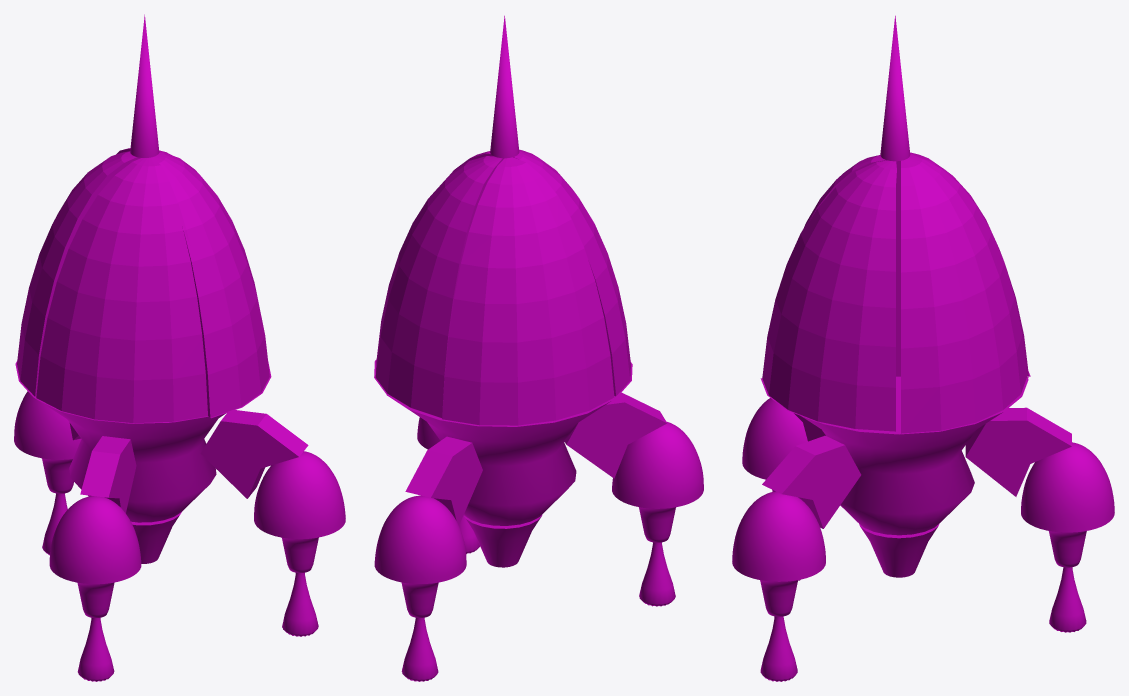
The model's file is Building.fbx.
3 renders of one model, left to right at view 1: azimuth 30°, elevation 25°; view 2: azimuth 150°, elevation 25°; view 3: azimuth 270°, elevation 25°, orthographic. The views are drawn at different scales.
Visible parts, largest first — view 1: pSphere3, pSphere4, Body, Leg, Leg2, pSphere2, Connector2, Leg1, Connector1, pCone2, Bottom; view 2: pSphere2, pSphere5, Body, Leg1, Leg, pSphere3, Connector1, Connector, pCone2, Bottom, Leg2; view 3: pSphere4, pSphere5, Body, Leg2, Leg1, Connector, Connector2, Leg, pCone2, Bottom, pSphere2, pSphere3.
Boxes of the visible parts, bbox=[...] form: pSphere3: bbox=[35, 157, 208, 423]; pSphere4: bbox=[152, 152, 271, 418]; Body: bbox=[20, 383, 226, 522]; Leg: bbox=[49, 496, 141, 681]; Leg2: bbox=[254, 451, 345, 636]; pSphere2: bbox=[15, 151, 140, 396]; Connector2: bbox=[200, 410, 308, 498]; Leg1: bbox=[14, 391, 81, 555]; Connector1: bbox=[80, 436, 136, 513]; pCone2: bbox=[130, 14, 159, 157]; Bottom: bbox=[131, 512, 181, 563]; pSphere2: bbox=[441, 157, 615, 426]; pSphere5: bbox=[374, 156, 503, 418]; Body: bbox=[386, 394, 615, 525]; Leg1: bbox=[374, 495, 466, 681]; Leg: bbox=[612, 422, 703, 606]; pSphere3: bbox=[513, 149, 632, 396]; Connector1: bbox=[565, 392, 666, 478]; Connector: bbox=[405, 436, 482, 525]; pCone2: bbox=[490, 15, 519, 158]; Bottom: bbox=[464, 515, 542, 567]; Leg2: bbox=[417, 417, 479, 553]; pSphere4: bbox=[760, 160, 896, 432]; pSphere5: bbox=[901, 157, 1028, 434]; Body: bbox=[801, 376, 1028, 535]; Leg2: bbox=[732, 491, 825, 681]; Leg1: bbox=[1021, 442, 1114, 632]; Connector: bbox=[965, 407, 1071, 496]; Connector2: bbox=[762, 435, 861, 528]; Leg: bbox=[742, 398, 807, 580]; pCone2: bbox=[880, 15, 910, 161]; Bottom: bbox=[859, 523, 939, 577]; pSphere2: bbox=[896, 152, 1030, 376]; pSphere3: bbox=[804, 155, 886, 227].
Bounding box in the file's own units: 21.92 × 44.98 × 25.47.
